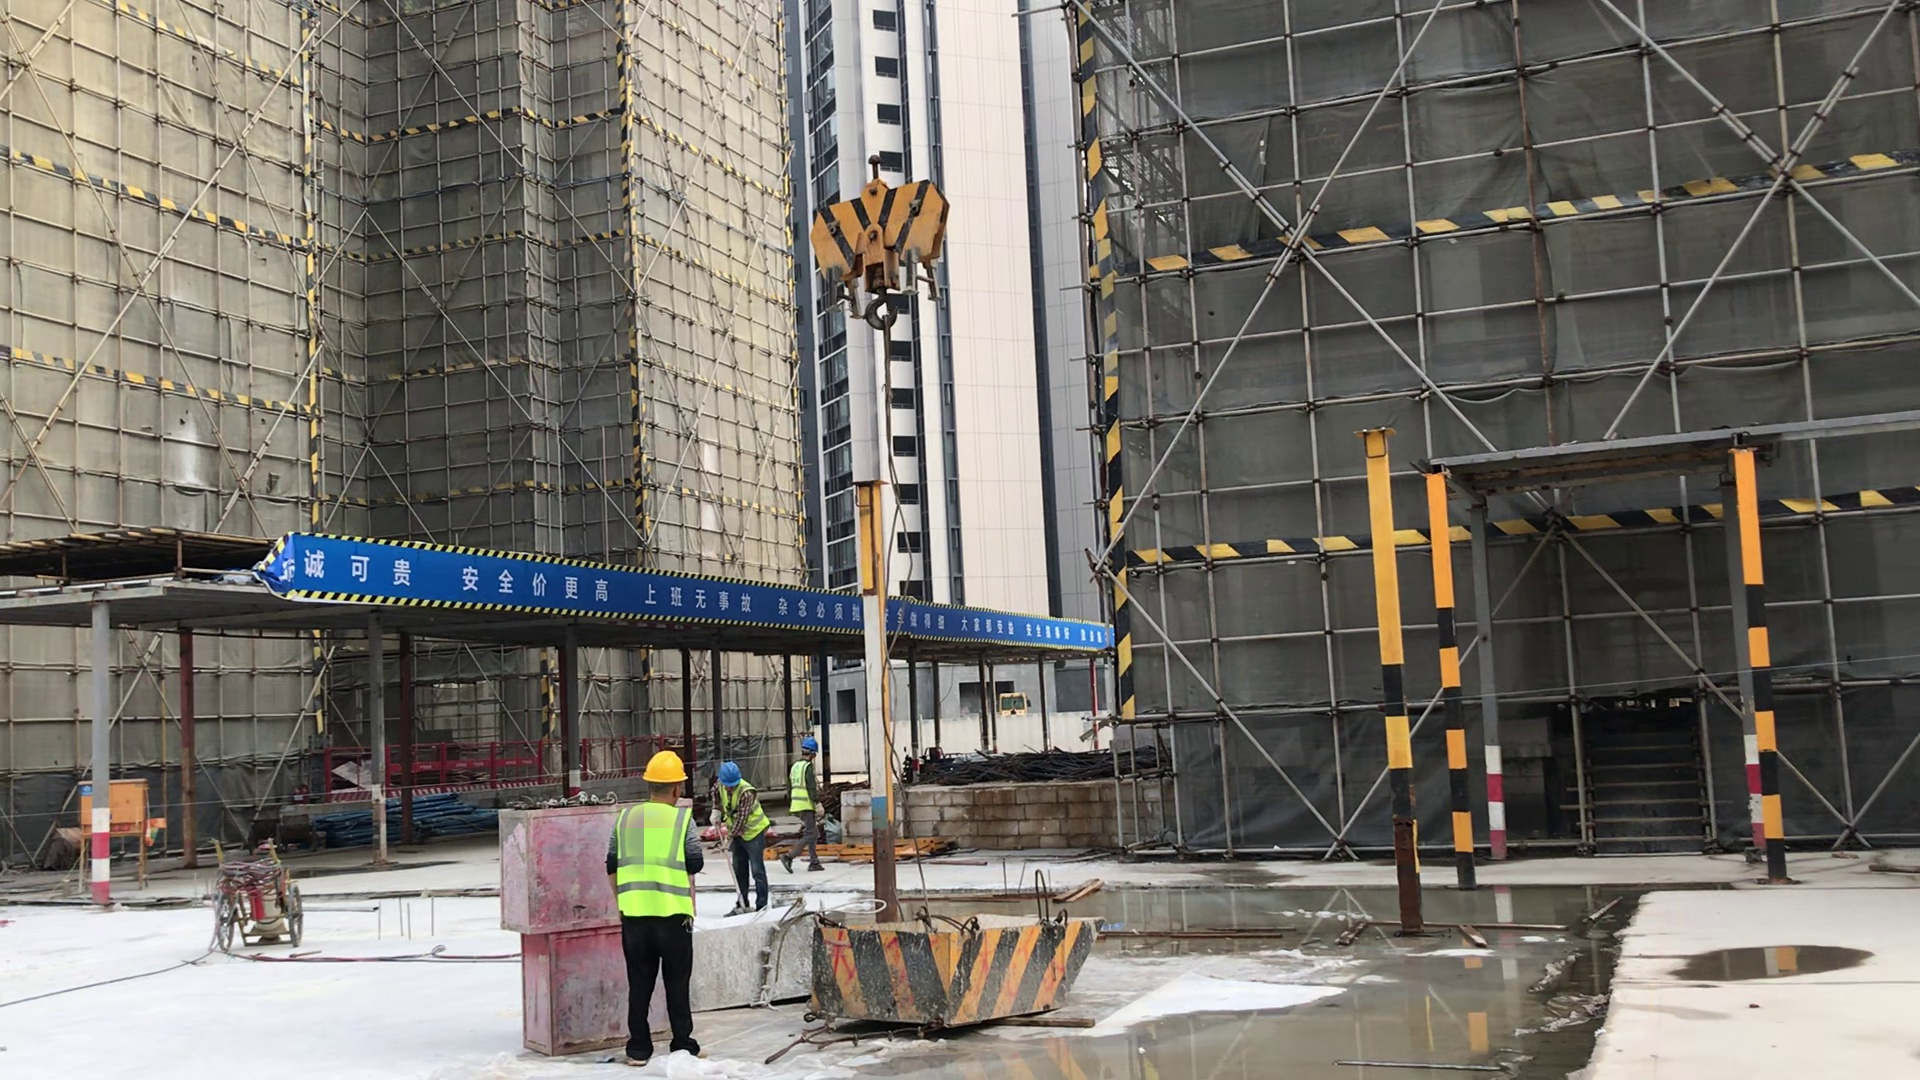ebox: (77, 780, 150, 833)
fence: (331, 737, 640, 806)
handcart: (205, 834, 300, 947)
helmet: (640, 752, 687, 782), (717, 763, 741, 784), (802, 739, 817, 751)
hook: (809, 156, 946, 333)
hopper: (812, 916, 1104, 1023), (696, 906, 820, 1016)
person: (610, 750, 705, 1066), (708, 762, 772, 915), (783, 739, 825, 873)
slogan: (274, 529, 1113, 656)
vest: (617, 803, 696, 919), (719, 778, 769, 839), (791, 761, 813, 814)
